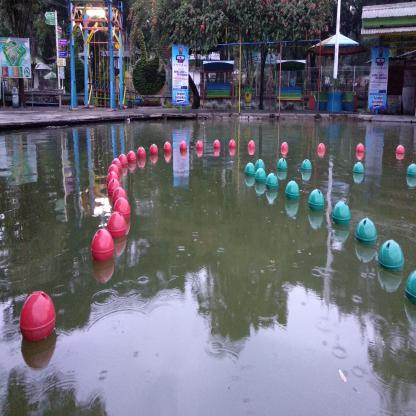green_buoy: (377, 236, 404, 279), (355, 216, 376, 248), (331, 200, 352, 225), (306, 187, 324, 210), (285, 179, 299, 201), (352, 159, 366, 181), (300, 156, 312, 178), (266, 172, 278, 194), (255, 166, 266, 186), (244, 161, 256, 177), (277, 156, 287, 173), (406, 161, 416, 178), (254, 158, 266, 171)
red_buoy: (18, 292, 56, 341), (91, 230, 114, 262), (107, 210, 128, 239), (114, 199, 130, 223), (108, 180, 122, 202), (113, 187, 127, 207), (106, 172, 119, 191), (108, 165, 120, 180), (111, 158, 122, 174), (137, 146, 146, 160), (127, 150, 136, 164), (119, 154, 128, 168), (163, 141, 171, 155), (356, 142, 365, 154), (396, 145, 405, 156), (150, 144, 158, 156), (195, 141, 204, 151), (228, 139, 236, 150), (180, 141, 187, 153), (214, 140, 221, 151), (248, 140, 255, 150), (281, 142, 288, 152), (318, 142, 325, 152)
